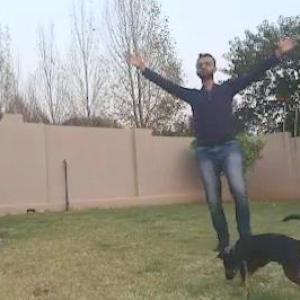takeoff: (122, 22, 299, 257)
